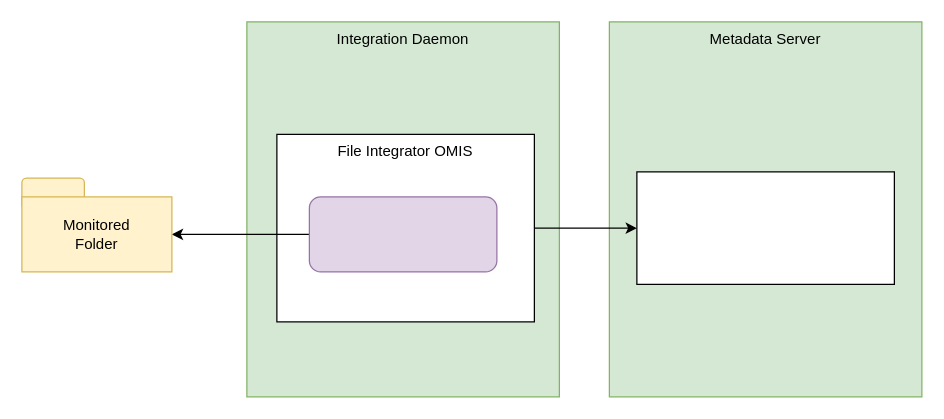
This 944x419 diagram has some shape labels left out. The shapes that lost their labels are listed below. From the top down, each one's centre as x and y in pixels, then its label:
At point (402, 234): "Data Files Monitor Integration Connector".
At point (765, 227): "Data Manager OMAS".
